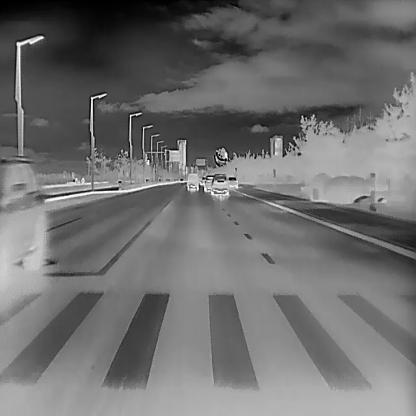car: (0, 157, 46, 275), (211, 173, 228, 198), (186, 173, 199, 191), (203, 174, 214, 192), (227, 176, 238, 191), (198, 176, 207, 186)
